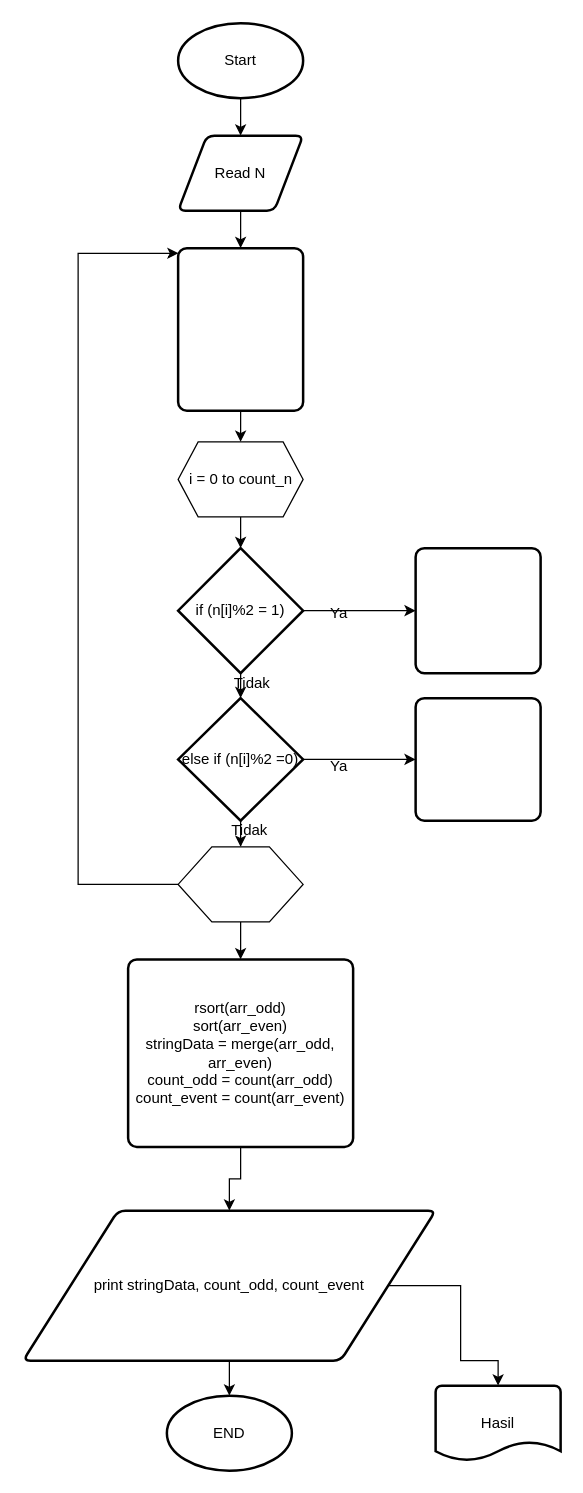
Image size: 583x1493. Some labels were removed from this diagram. The shapes that lost their labels are listed below. From the top down, each one's centre as x and y in pixels, then its label:
At pixel 240 328: "N = String N = Integer [] arr_odd = [] arr_even = [] i = 0 count_n = count(n)".
At pixel 477 610: "arr_odd[] = n[i]".
At pixel 477 758: "arr_even[] = n[i]".
At pixel 240 884: "next i;".
